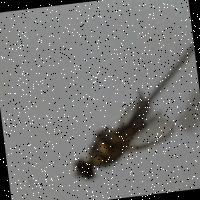Oriental-fruit-fly: (55, 76, 191, 192)
